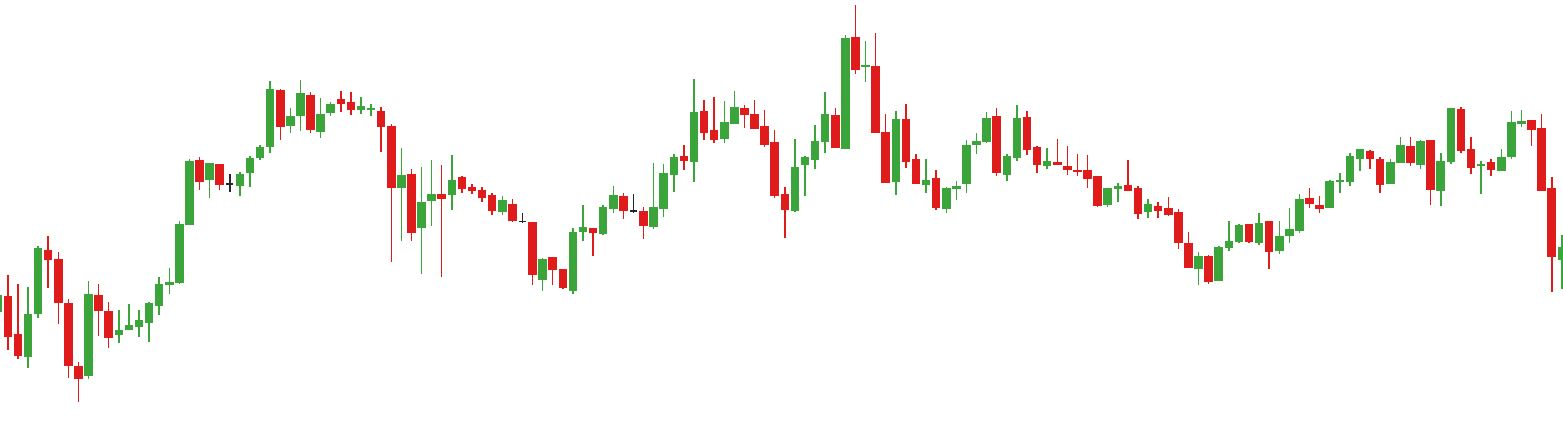buy: (20, 280, 96, 402)
